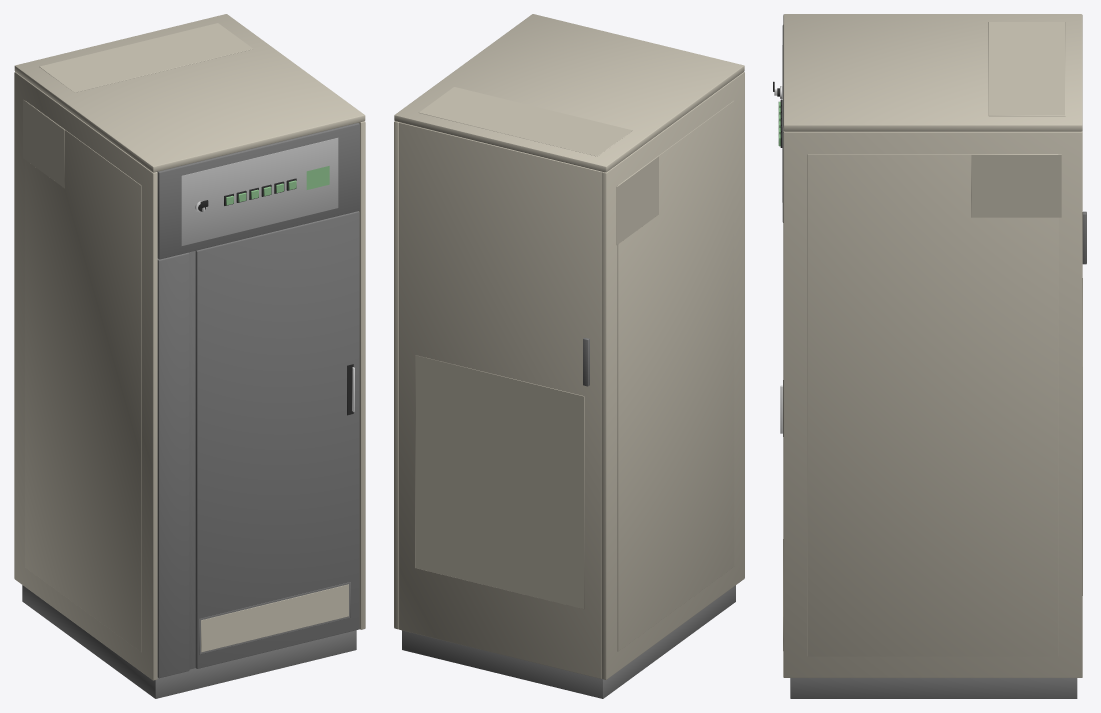
The model's file is Kit_SystemCabinet_CPU_Charcoal.fbx.
3 views of the same model, side by side, from view 1: azimuth 30°, elevation 25°; view 2: azimuth 150°, elevation 25°; view 3: azimuth 270°, elevation 25° (orthographic). The views are drawn at different scales.
Visible parts, largest first — view 1: Kit_SystemCabinet_CPU_LOD0; view 2: Kit_SystemCabinet_CPU_LOD0; view 3: Kit_SystemCabinet_CPU_LOD0.
Part boxes in pixels (box(x1,y1,x2,y2)): Kit_SystemCabinet_CPU_LOD0: box(14, 14, 365, 698); Kit_SystemCabinet_CPU_LOD0: box(394, 14, 744, 698); Kit_SystemCabinet_CPU_LOD0: box(773, 14, 1086, 698).
Size of what is drawn, in the model's own units: 0.7671 by 1.83 by 0.9016.
